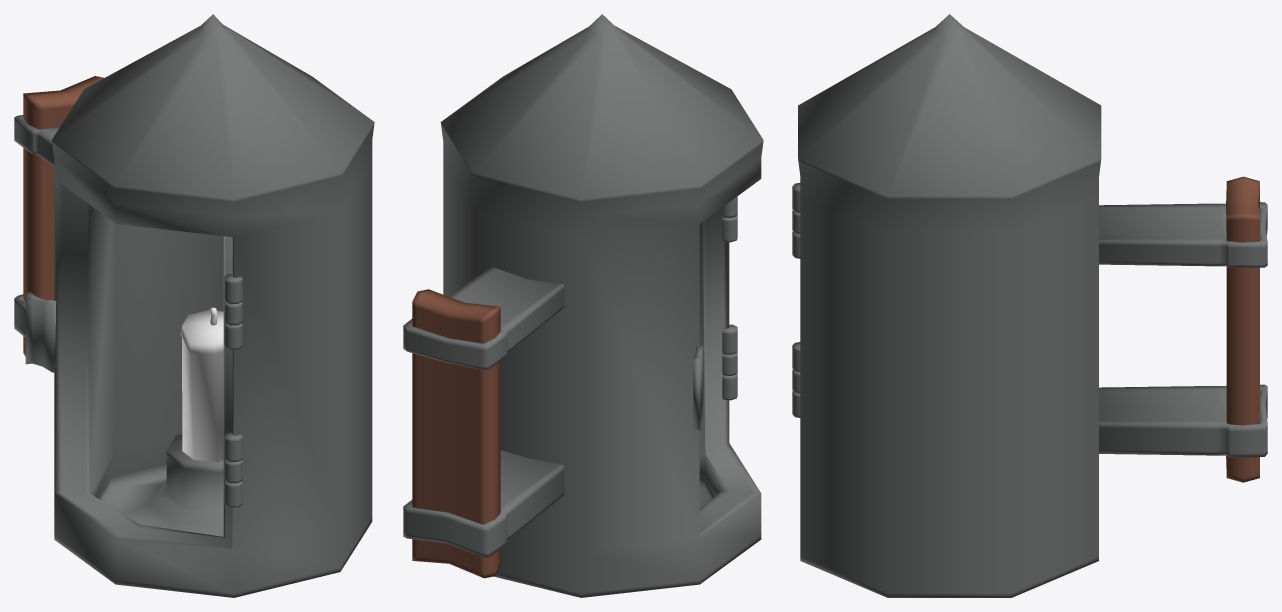
Rendered from Lantern 2.fbx.
3 renders of one model, left to right at view 1: azimuth 30°, elevation 25°; view 2: azimuth 150°, elevation 25°; view 3: azimuth 270°, elevation 25°, orthographic.
Parts seen in each view (by area): view 1: Lantern2, Lantern2 Wood Handle, Candle2; view 2: Lantern2, Lantern2 Wood Handle; view 3: Lantern2, Lantern2 Wood Handle.
Part boxes in pixels (x1,y1,x2,y2): Lantern2: [14, 14, 374, 597]; Lantern2 Wood Handle: [23, 76, 104, 356]; Candle2: [180, 310, 223, 462]; Lantern2: [403, 14, 763, 597]; Lantern2 Wood Handle: [412, 289, 500, 578]; Lantern2: [792, 14, 1267, 597]; Lantern2 Wood Handle: [1226, 176, 1259, 482].
Size of the model in its own units: 24.2 by 16.18 by 29.26.
